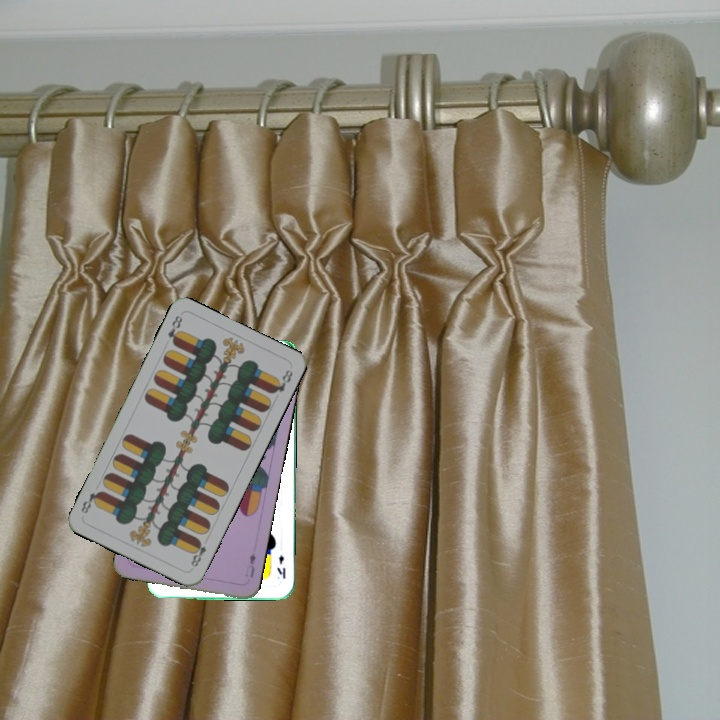E8: (164, 311, 185, 347), (187, 536, 209, 570)
EK: (273, 551, 288, 581)
EU: (241, 549, 258, 580)
